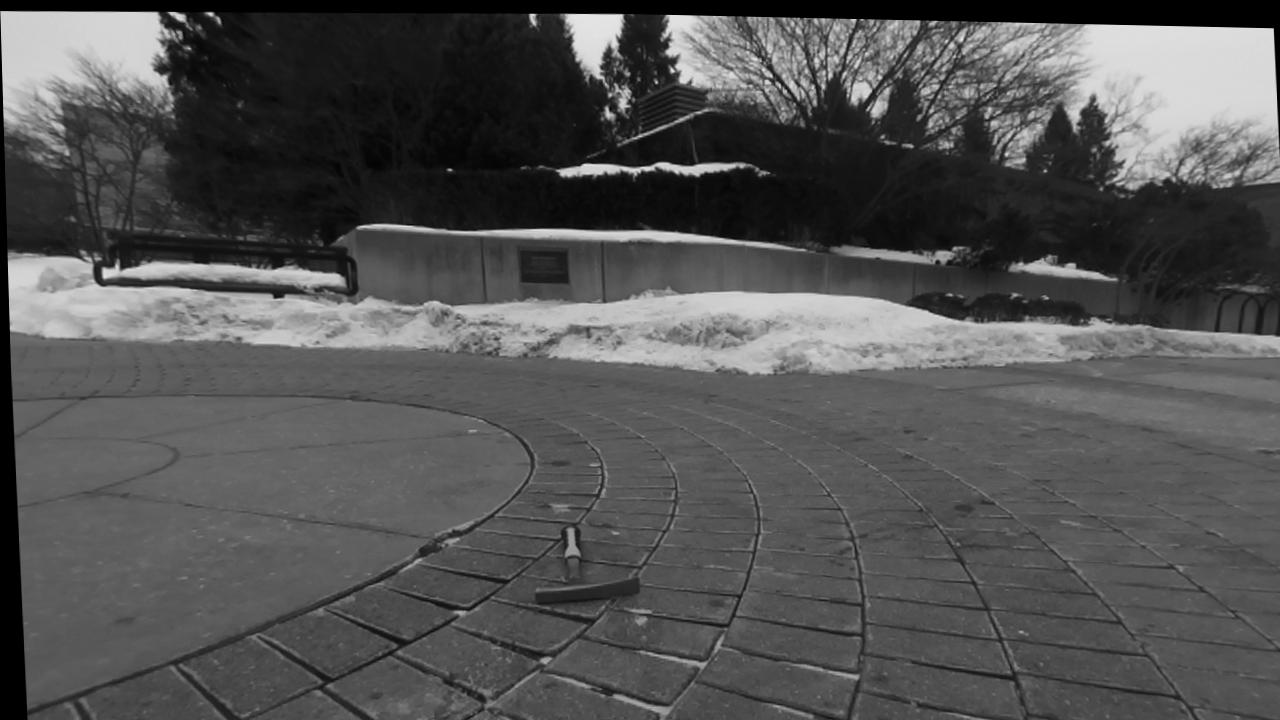pick: (537, 526, 639, 603)
